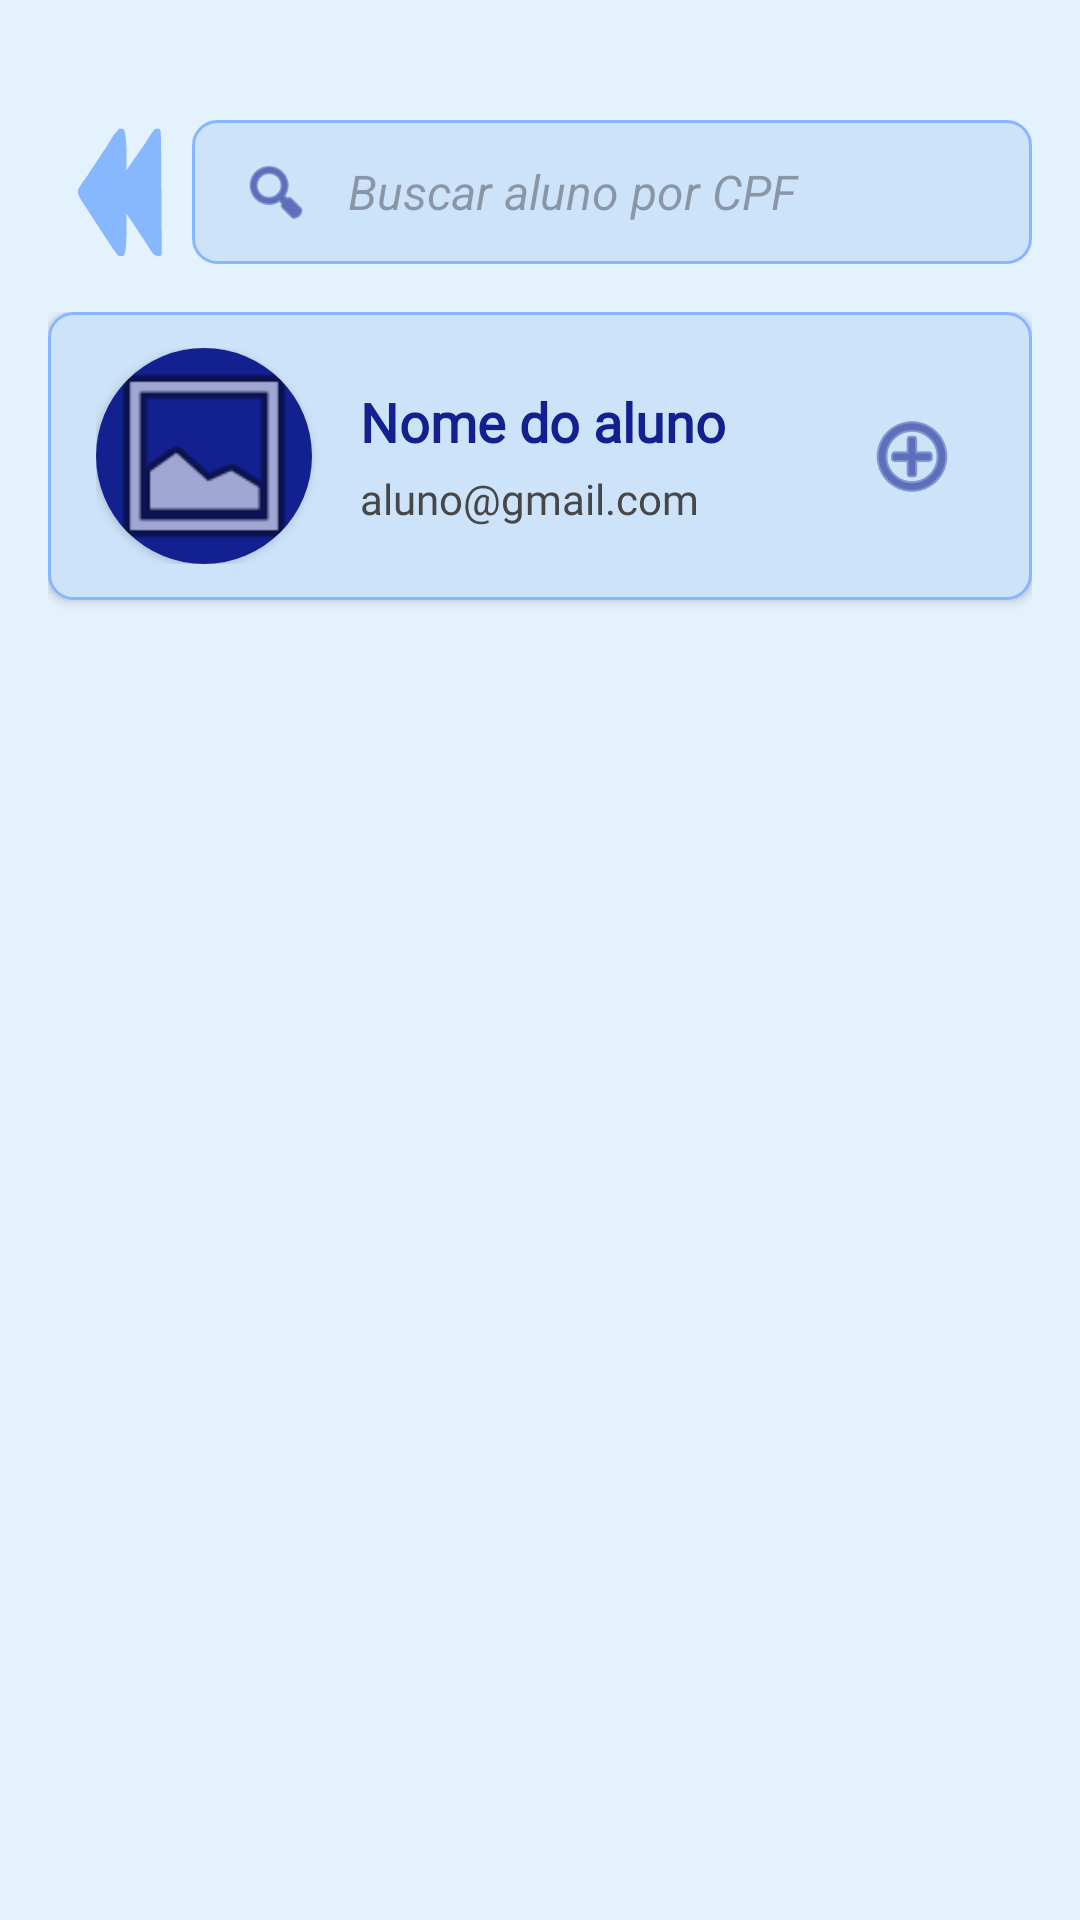

Named icons in this screenshot (1080×1920) and their centers, point (x, y):
Ícone de busca: point (276, 192)
